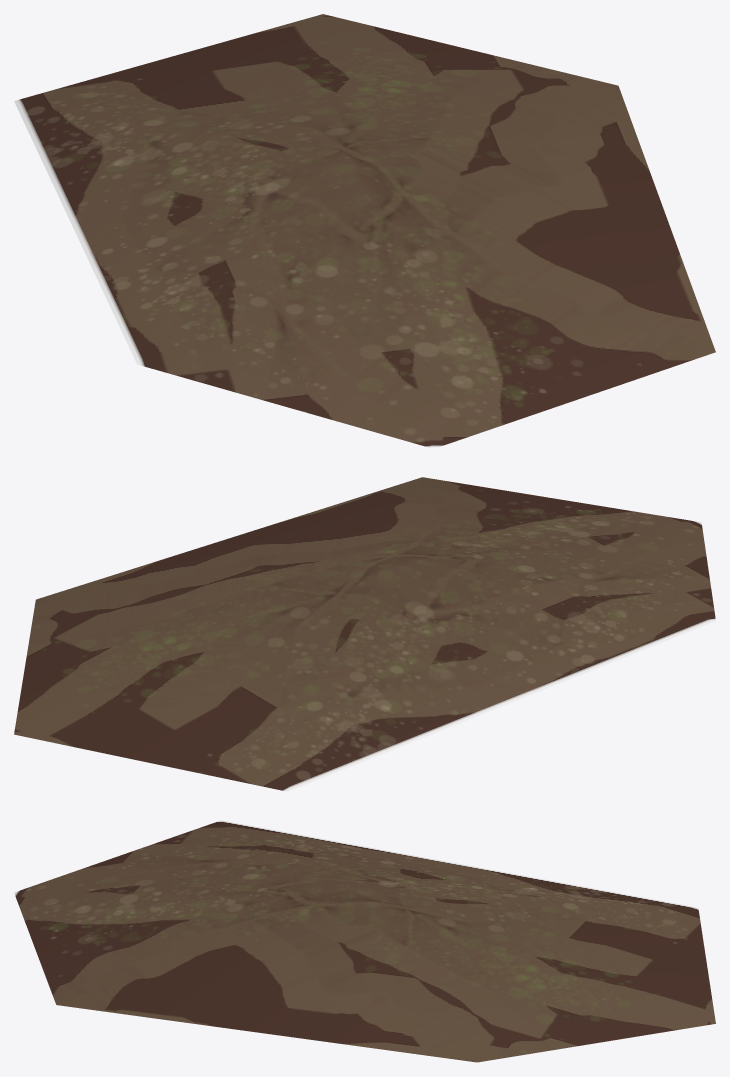
File: MSH_fwOF_WoodDebris_Single_01.fbx
3 renders of one model, top to bottom at view 1: azimuth 30°, elevation 25°; view 2: azimuth 150°, elevation 25°; view 3: azimuth 270°, elevation 25°, orthographic. The views are drawn at different scales.
Parts seen in each view (by area): view 1: MSH_fwOF_WoodDebris_Single_01; view 2: MSH_fwOF_WoodDebris_Single_01; view 3: MSH_fwOF_WoodDebris_Single_01.
Boxes of the visible parts, x1=… form: MSH_fwOF_WoodDebris_Single_01: x1=14, y1=14, x2=715, y2=448; MSH_fwOF_WoodDebris_Single_01: x1=14, y1=477, x2=715, y2=791; MSH_fwOF_WoodDebris_Single_01: x1=14, y1=820, x2=715, y2=1062.
Size of the model in its own units: 0.5419 by 0.06 by 0.6792.
